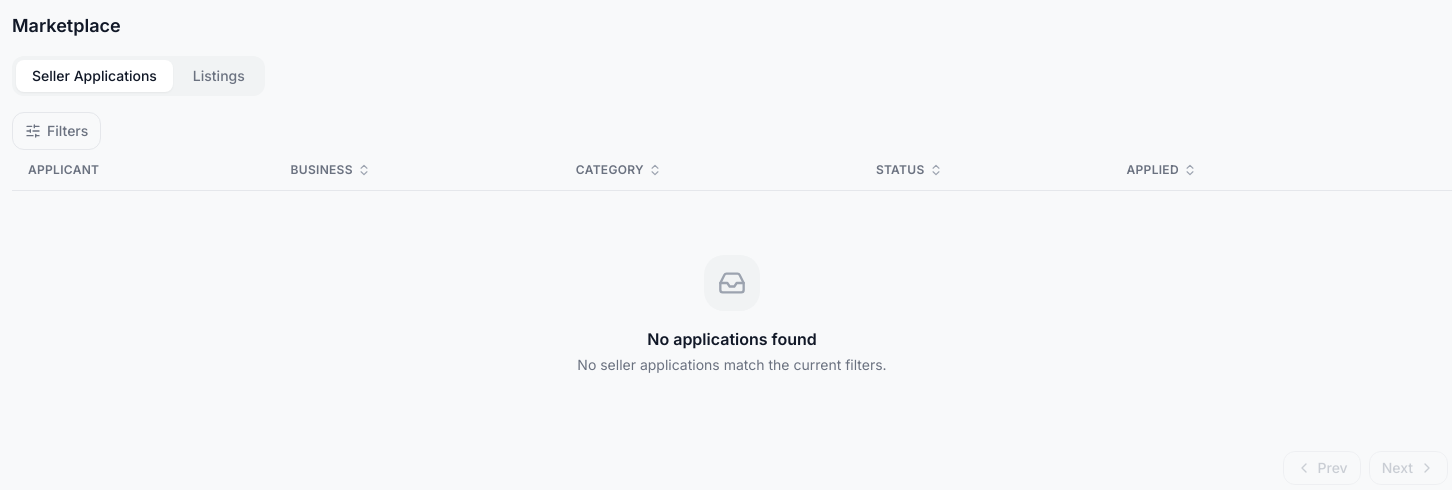
it: MarketplacePage › renders remove button for active listing
Click the button with test id "tab-listings". click: point(219, 76)
box: [177,60,261,92]
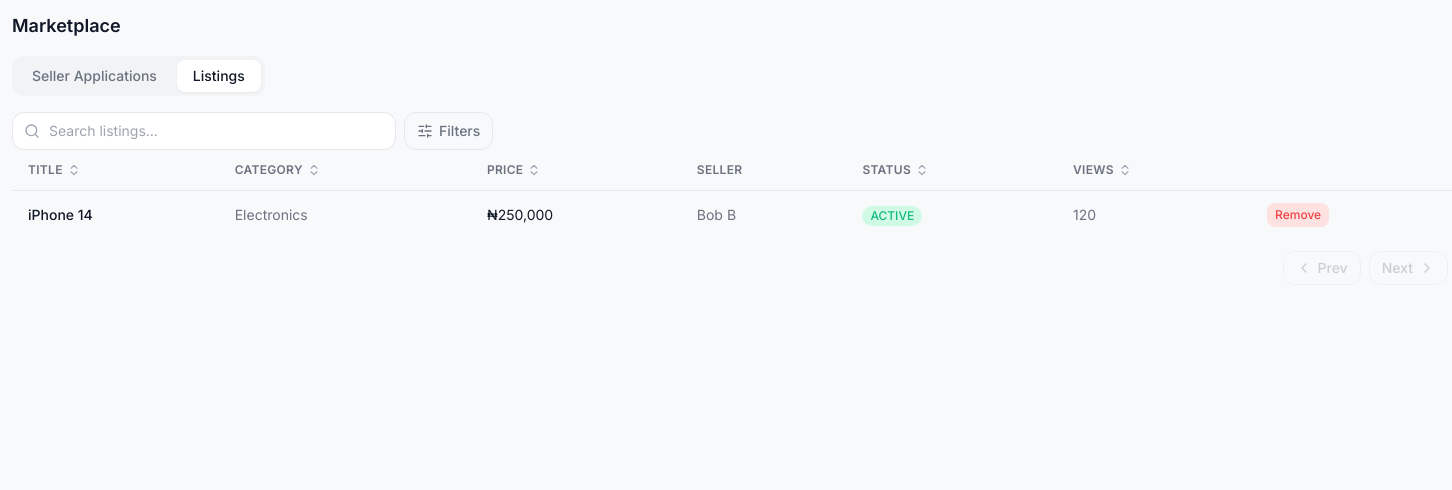
Check: the button with test id "remove-lst1" is shown, box [1267,203,1329,227]
